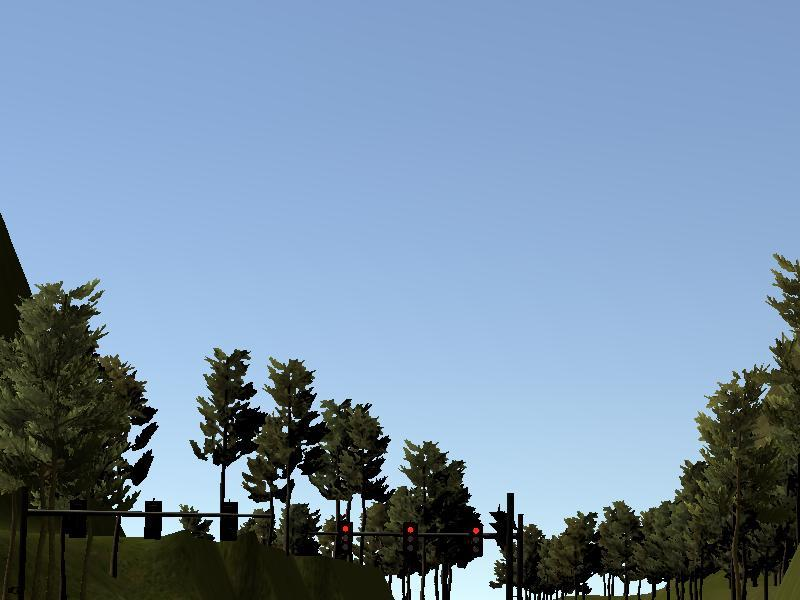Red: (401, 522, 418, 558), (336, 520, 352, 554), (469, 524, 482, 556)
